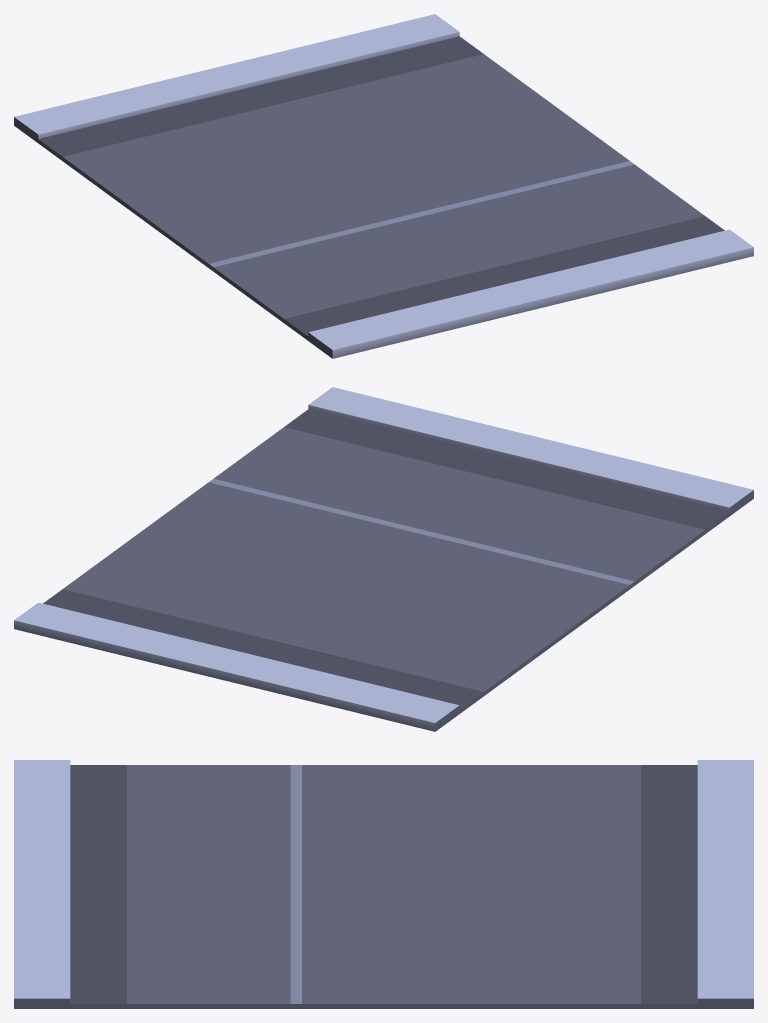
The model's file is road-side.fbx.
The picture shows the model from 3 angles, top to bottom: view 1: azimuth 30°, elevation 25°; view 2: azimuth 150°, elevation 25°; view 3: azimuth 270°, elevation 25°; orthographic projection. The views are drawn at different scales.
Visible parts, largest first — view 1: road-side; view 2: road-side; view 3: road-side.
Part boxes in pixels (x1,y1,x2,y2): road-side: [14, 14, 753, 358]; road-side: [14, 387, 753, 731]; road-side: [14, 760, 753, 1008].
Size of the model in its own units: 100 by 2 by 131.
